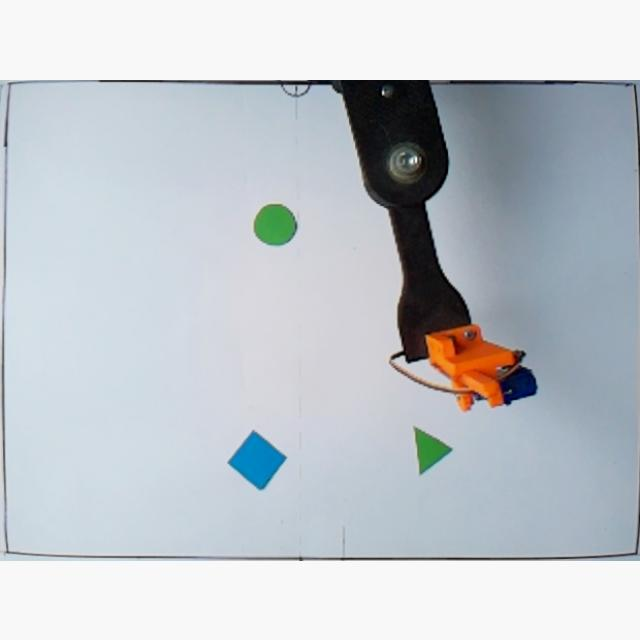blueSquare: (226, 428, 290, 490)
greenCircle: (254, 200, 298, 247)
greenTriangle: (412, 423, 452, 475)
